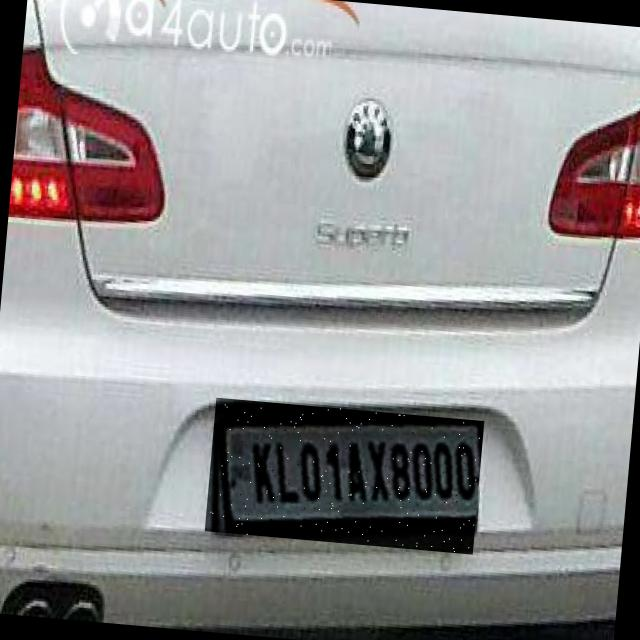Plate: (205, 399, 485, 556)
